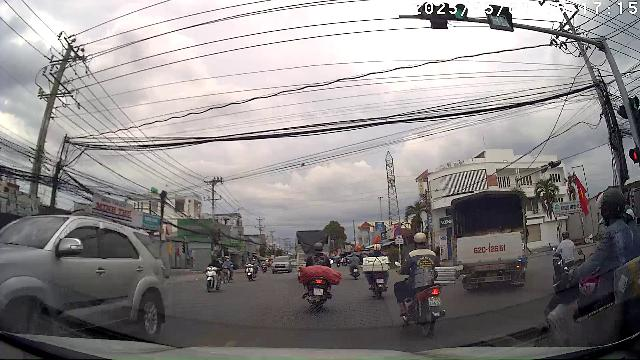130-cam-dung-va-do-xe: (394, 228, 402, 234)
